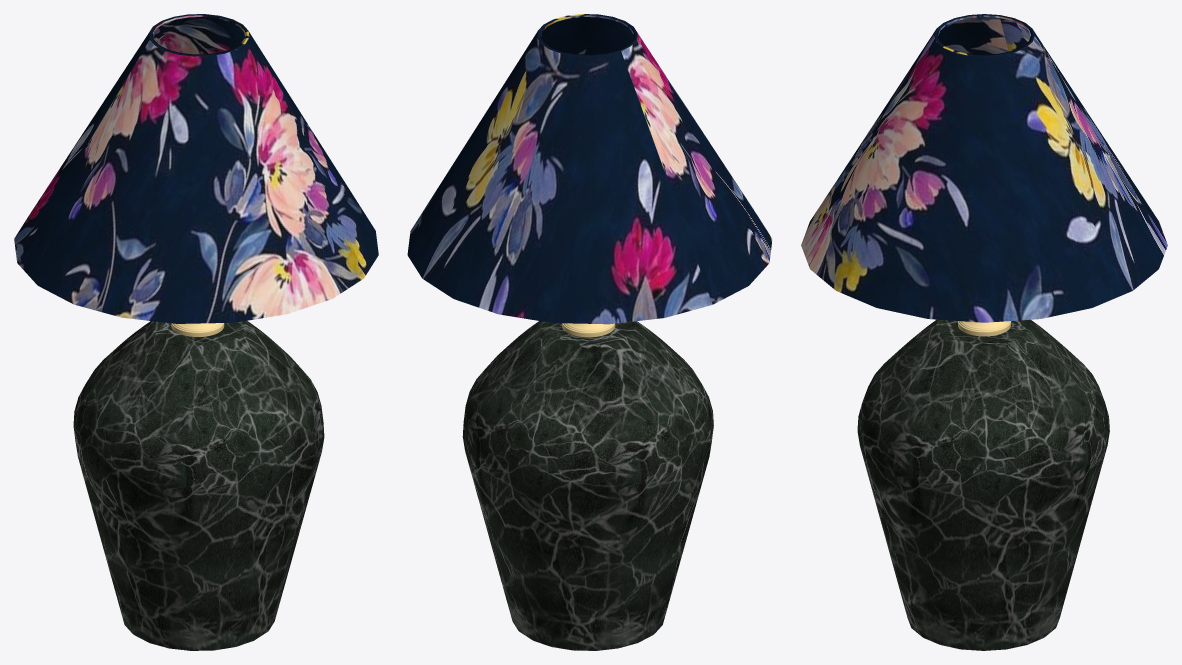
File: lamp-marble-base-free.glb
3 renders of one model, left to right at view 1: azimuth 30°, elevation 25°; view 2: azimuth 150°, elevation 25°; view 3: azimuth 270°, elevation 25°, orthographic.
Parts seen in each view (by area): view 1: pCylinder26, pCylinder24, pCylinder30; view 2: pCylinder26, pCylinder24, pCylinder30; view 3: pCylinder26, pCylinder24, pCylinder30.
Boxes of the visible parts, x1,y1,x2,y2 form: pCylinder26: (14, 14, 378, 323); pCylinder24: (73, 320, 324, 650); pCylinder30: (171, 323, 224, 336); pCylinder26: (407, 14, 772, 324); pCylinder24: (462, 321, 713, 650); pCylinder30: (562, 323, 615, 337); pCylinder26: (801, 14, 1167, 322); pCylinder24: (857, 319, 1109, 650); pCylinder30: (958, 321, 1010, 336).
Bounding box in the file's own units: 0.2558 × 0.45 × 0.2558.
9 materials, 8 textured.
